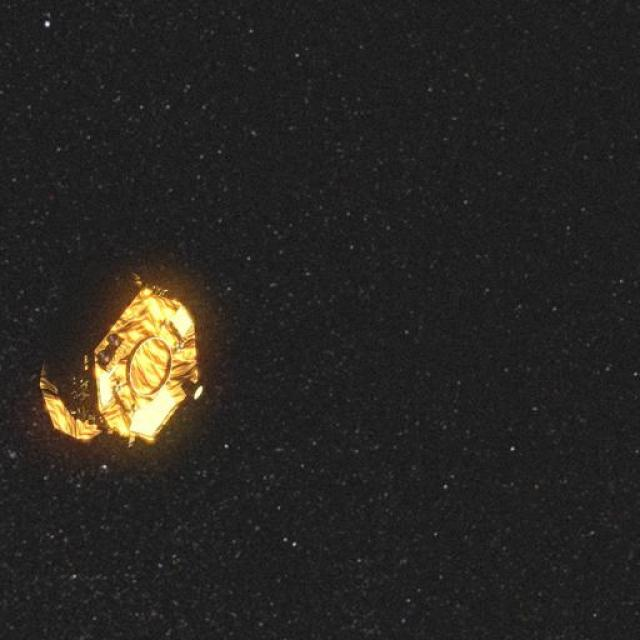lisa_pathfinder: (22, 231, 244, 465)
